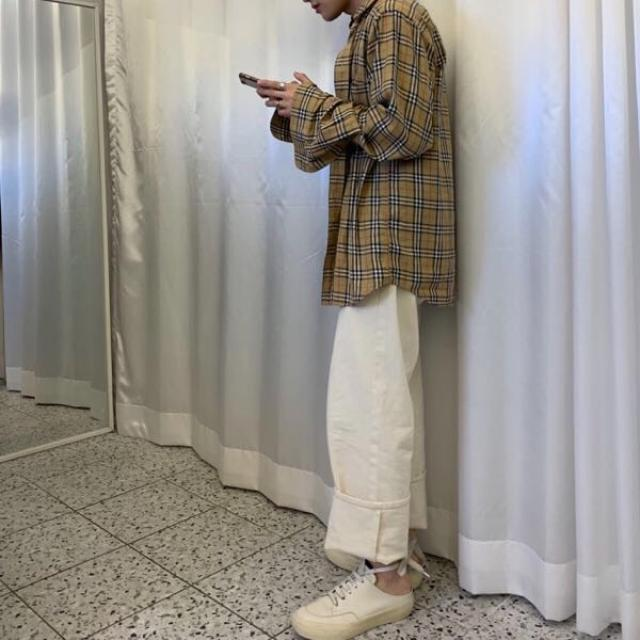cottonpants: (318, 283, 430, 566)
shirt: (270, 0, 459, 303)
